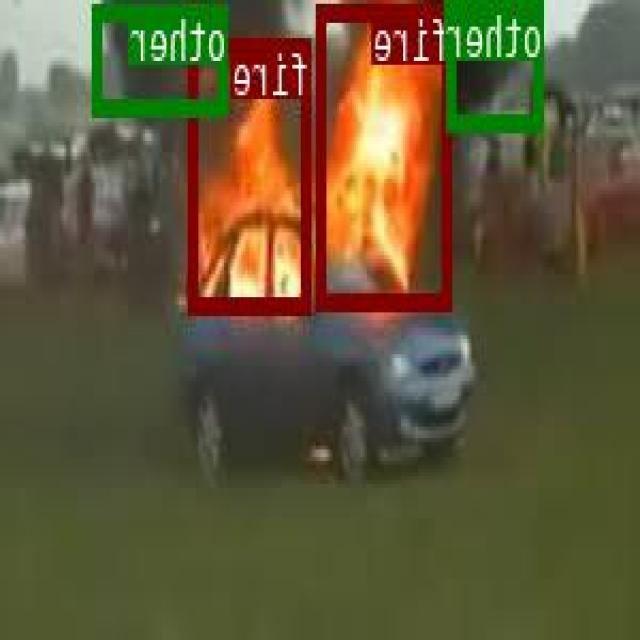fire: (320, 4, 453, 307), (190, 35, 312, 311)
other: (94, 3, 230, 114), (448, 0, 546, 126)
